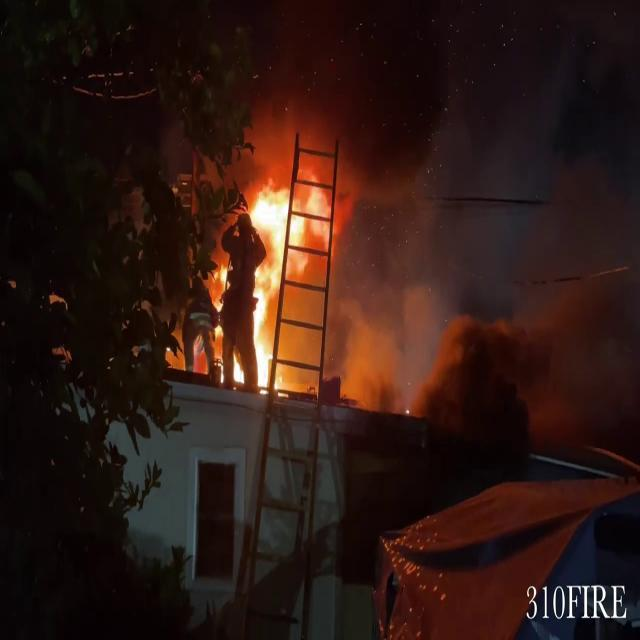Fire: (232, 172, 344, 396)
Smoke: (321, 21, 640, 442)
